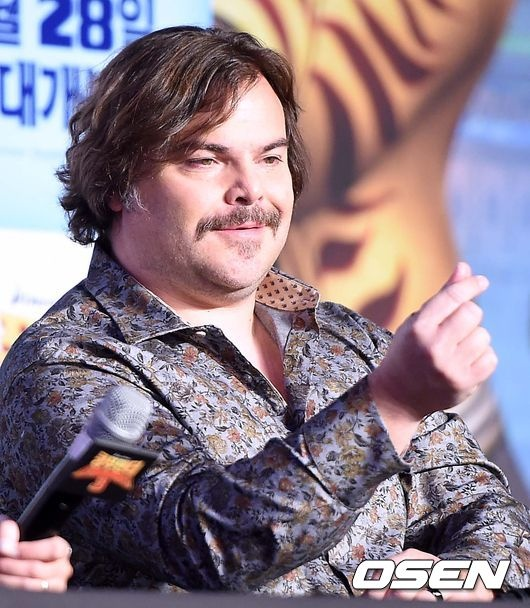oneheart: (388, 257, 515, 396)
